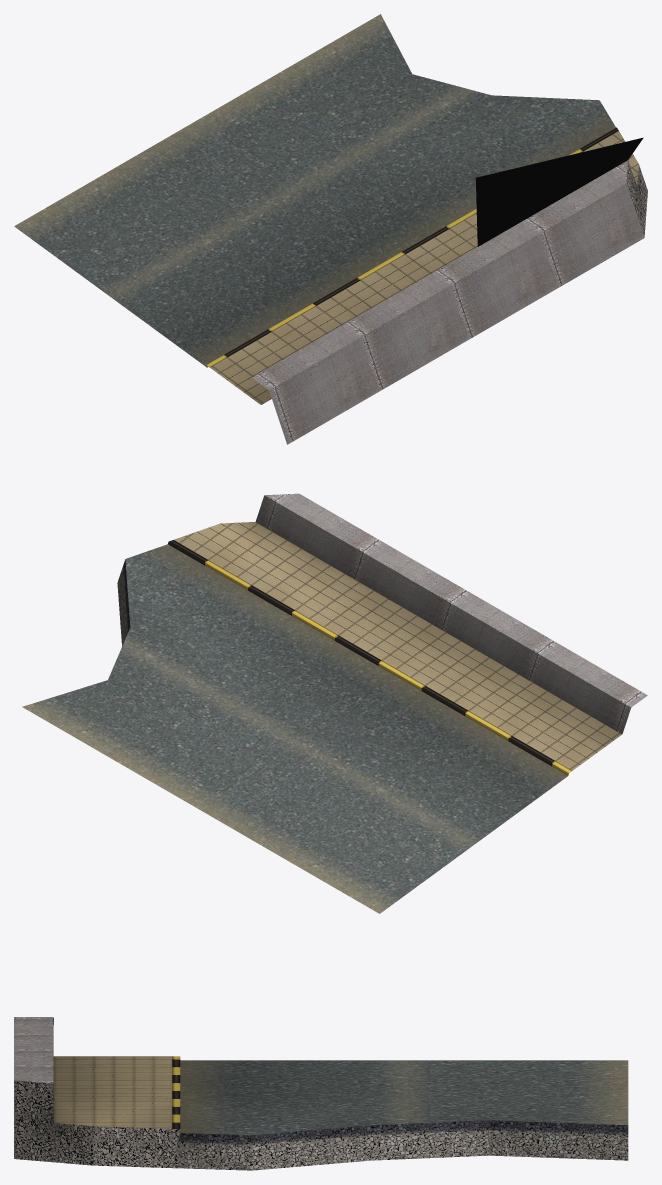
The model's file is M2_Zone4_FlyOver6_A.glb.
The picture shows the model from 3 angles, top to bottom: view 1: azimuth 30°, elevation 25°; view 2: azimuth 150°, elevation 25°; view 3: azimuth 270°, elevation 25°; orthographic projection. The views are drawn at different scales.
Parts seen in each view (by area): view 1: M2_ZONE4_FLYOVER6_A; view 2: M2_ZONE4_FLYOVER6_A; view 3: M2_ZONE4_FLYOVER6_A.
Part boxes in pixels (bbox=[...]): M2_ZONE4_FLYOVER6_A: bbox=[14, 14, 647, 444]; M2_ZONE4_FLYOVER6_A: bbox=[22, 493, 647, 913]; M2_ZONE4_FLYOVER6_A: bbox=[14, 1017, 628, 1170].
Size of the model in its own units: 14.9 by 6.68 by 16.
8 materials, 7 textured.
